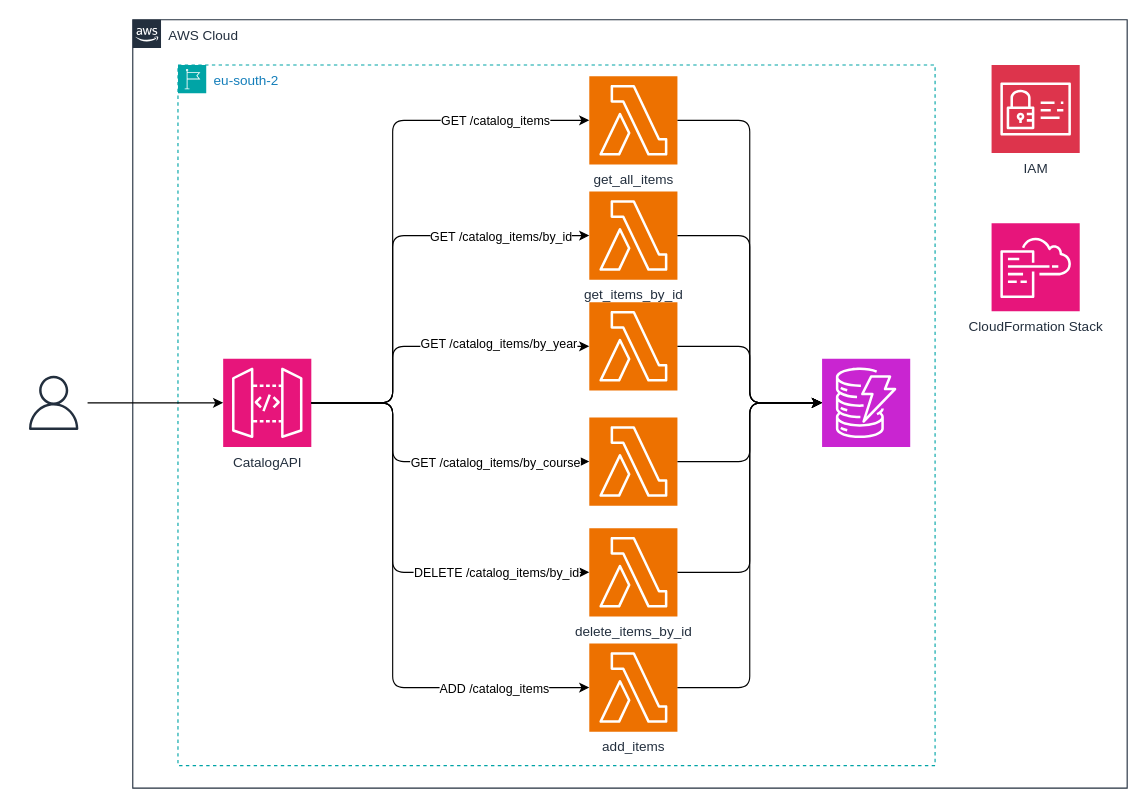
Some shapes in this 1147 by 808 pixel diagram are drawn without their labels. The shapes that lost their labels are listed below. From the top down, each one's centre as x and y in pixels, then its label:
the point at 632,345: get_items_by_year
the point at 53,402: User
the point at 865,402: items_catalog
the point at 632,461: get_items_by_course
